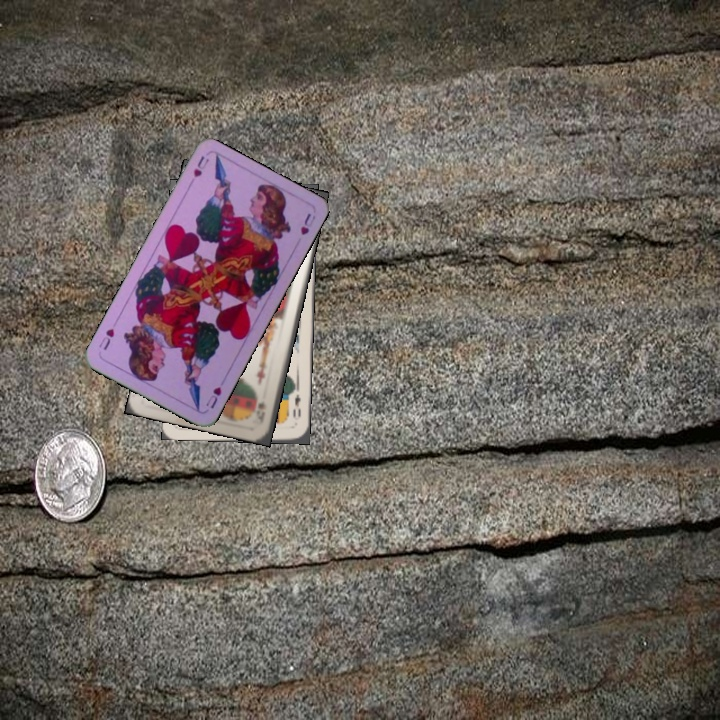EO: (289, 390, 303, 422)
HU: (184, 152, 211, 189), (202, 382, 224, 411)
SK: (252, 398, 267, 427)
